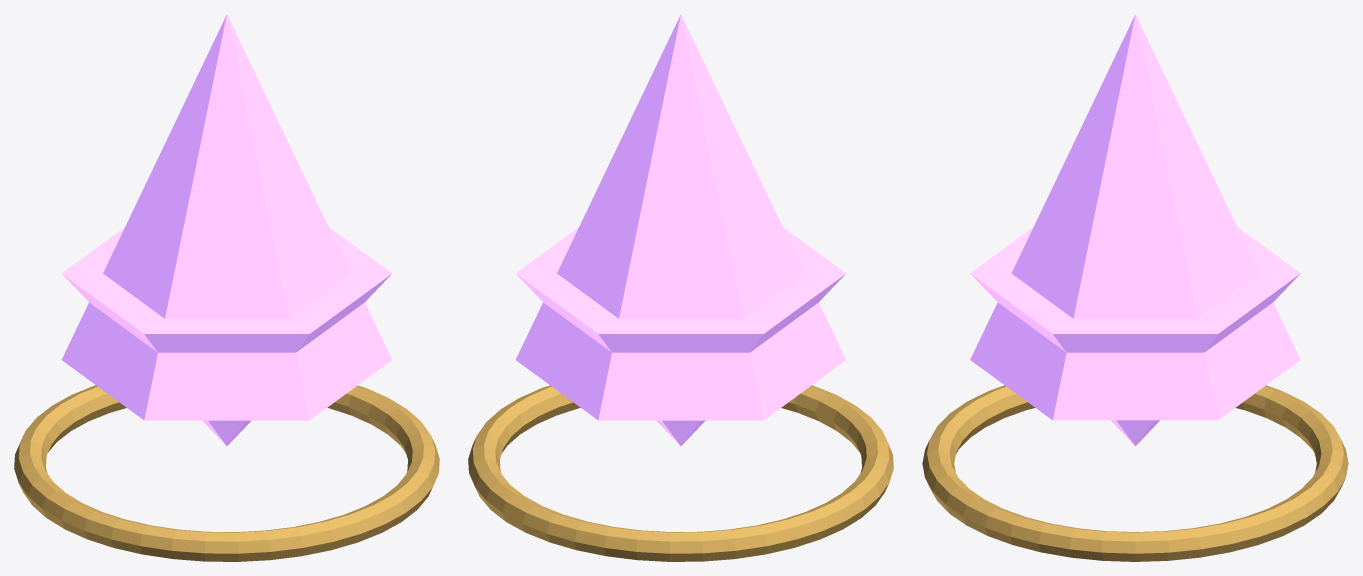
3 views of the same model, side by side, from view 1: azimuth 30°, elevation 25°; view 2: azimuth 150°, elevation 25°; view 3: azimuth 270°, elevation 25° (orthographic).
Parts seen in each view (by area): view 1: ai_export.016; view 2: ai_export.016; view 3: ai_export.016.
Boxes of the visible parts, <box> form: ai_export.016: <box>14,14,439,561</box>; ai_export.016: <box>468,14,893,561</box>; ai_export.016: <box>922,14,1348,561</box>.
Bounding box in the file's own units: 0.67 × 0.805 × 0.67.
